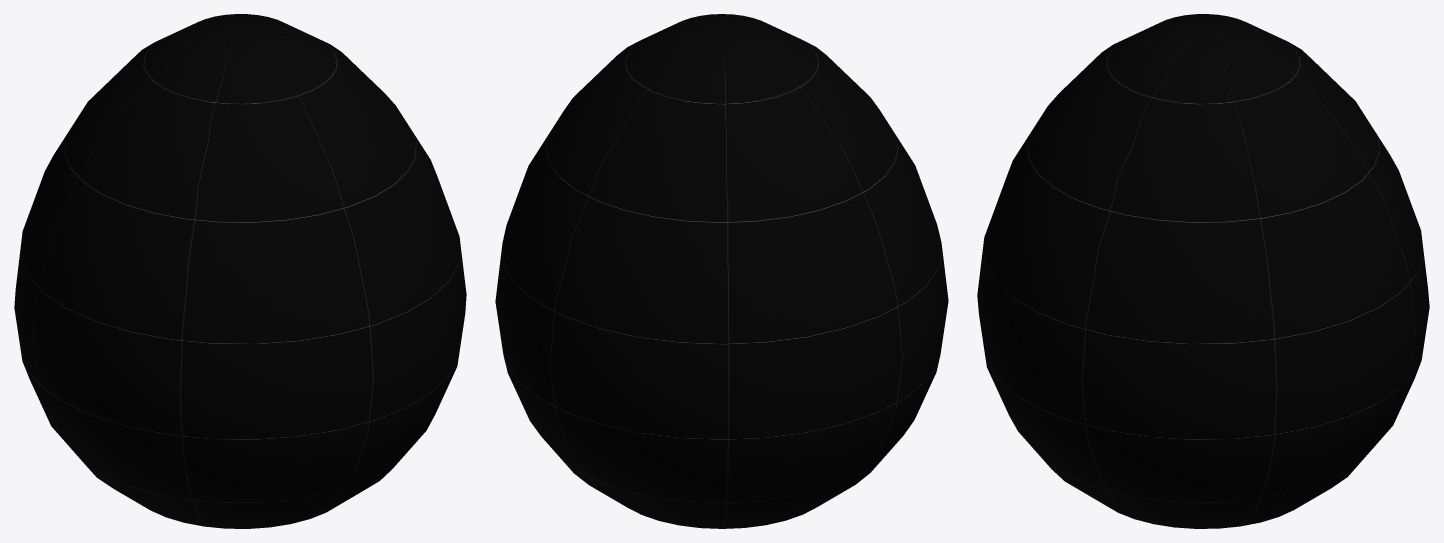
File: Black Egg.gltf
3 views of the same model, side by side, from view 1: azimuth 30°, elevation 25°; view 2: azimuth 150°, elevation 25°; view 3: azimuth 270°, elevation 25° (orthographic).
Visible parts, largest first — view 1: EGG; view 2: EGG; view 3: EGG.
Boxes of the visible parts, x1=… form: EGG: x1=14, y1=14, x2=466, y2=528; EGG: x1=495, y1=14, x2=948, y2=528; EGG: x1=977, y1=14, x2=1429, y2=528.
Bounding box in the file's own units: 1.77 × 2.06 × 1.77.
Materials: 1 (1 with a texture image).
